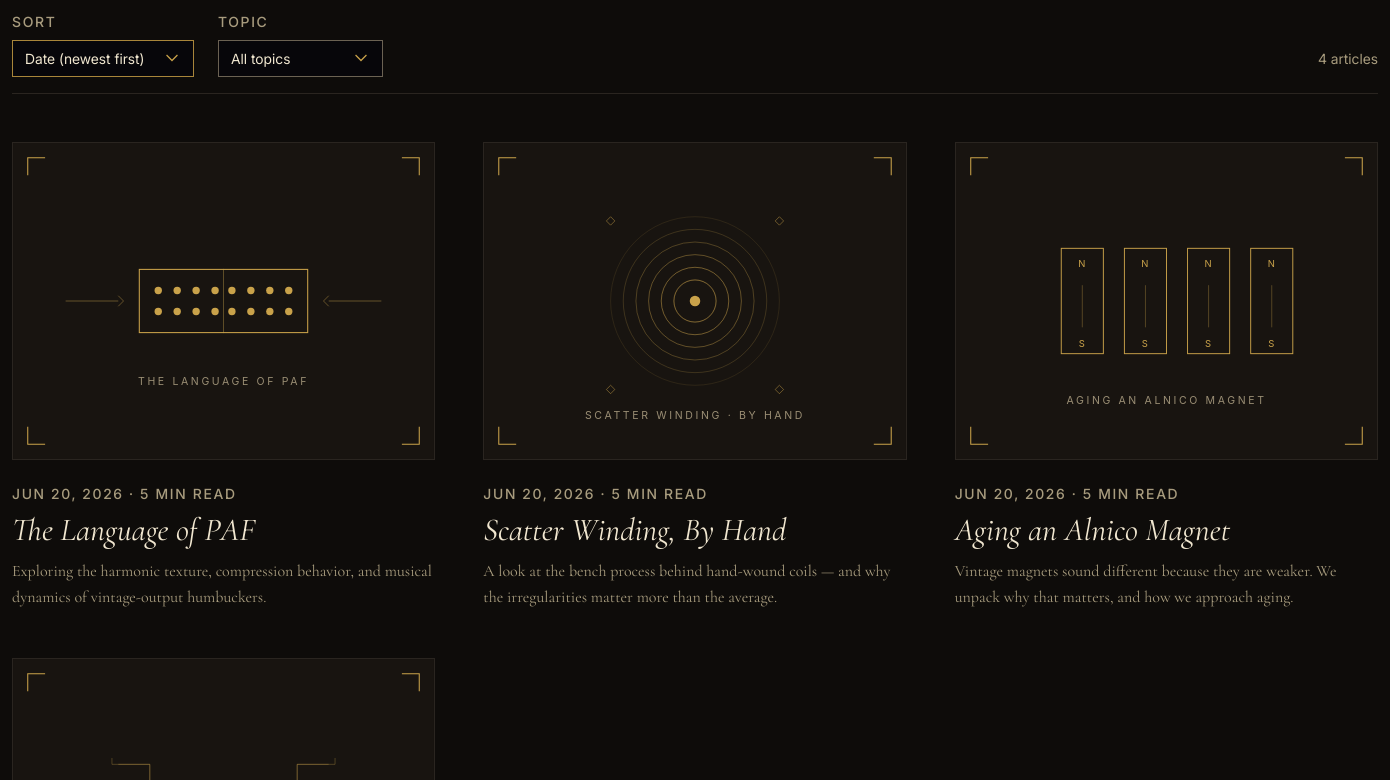
Test: ArticleBrowser › sorts oldest first and filters by topic
Step 1. Select "Date (oldest first)" in the dropdown with test id "article-browser-sort-select" → (103, 58), box [12, 40, 194, 77]
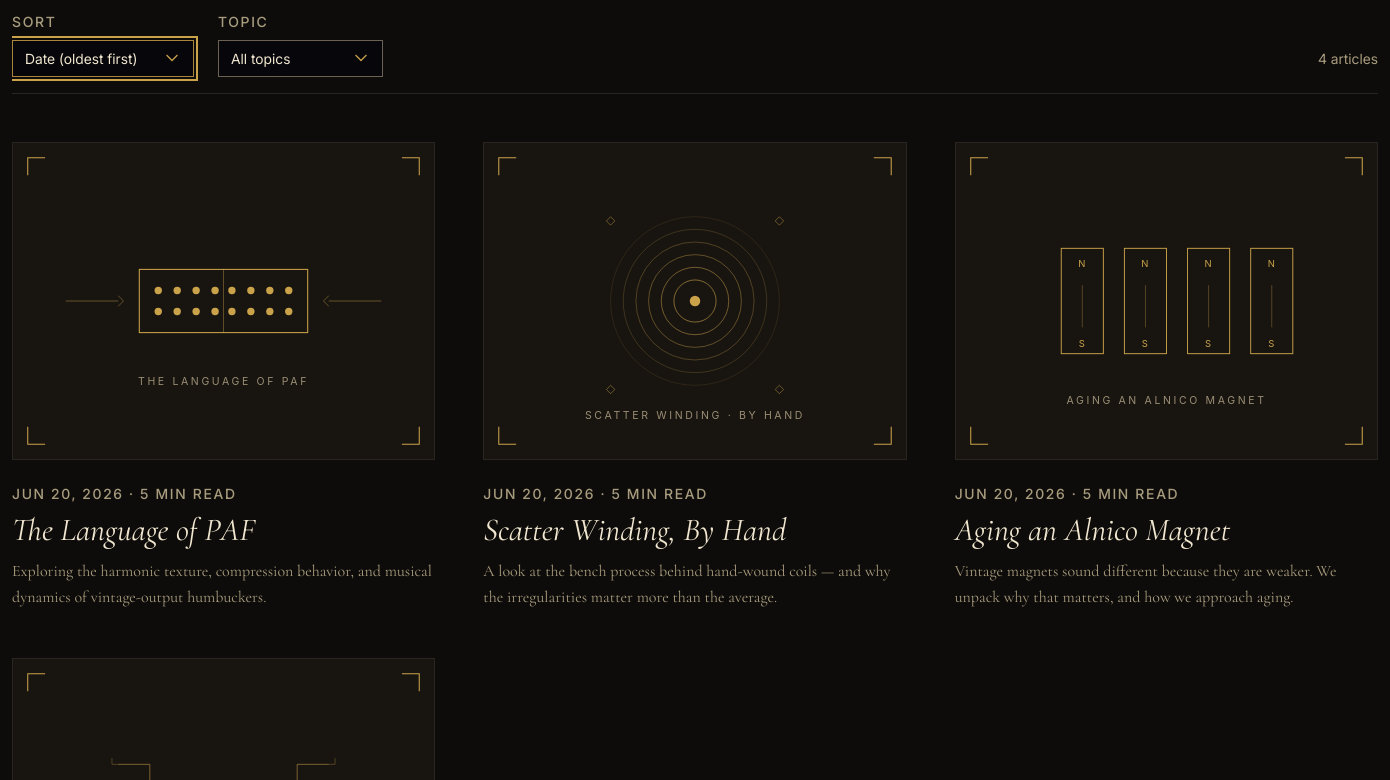
Step 2. Select "PAF" in the dropdown with test id "article-browser-topic-select" → (300, 58), box [218, 40, 383, 77]
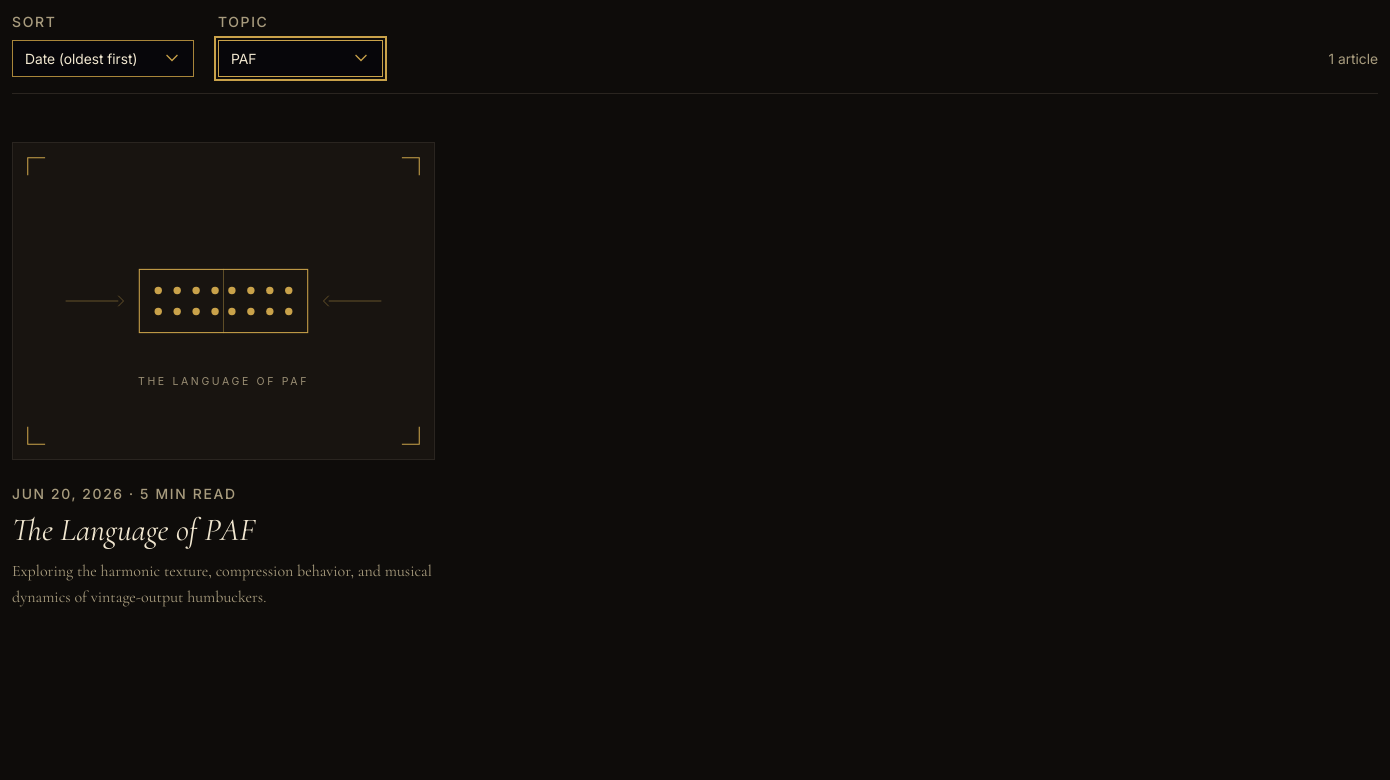
Result: the message with test id "article-browser-count" reads "1 article" at [1329, 50, 1378, 67]
